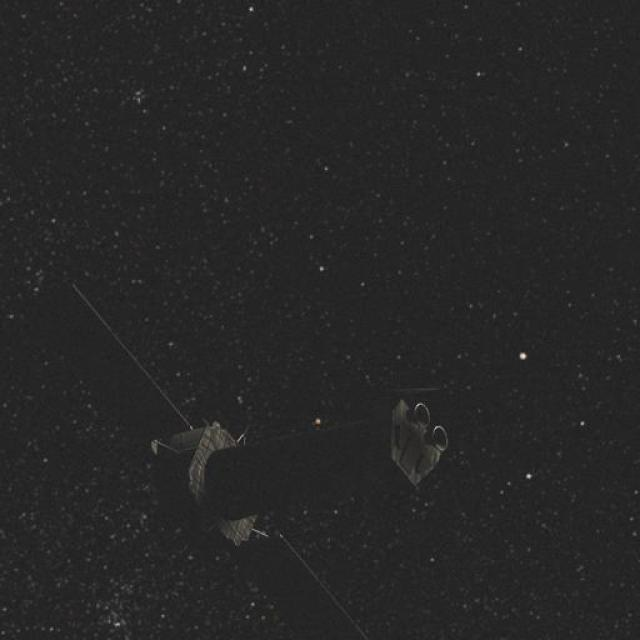xmm_newton: (111, 352, 476, 592)
